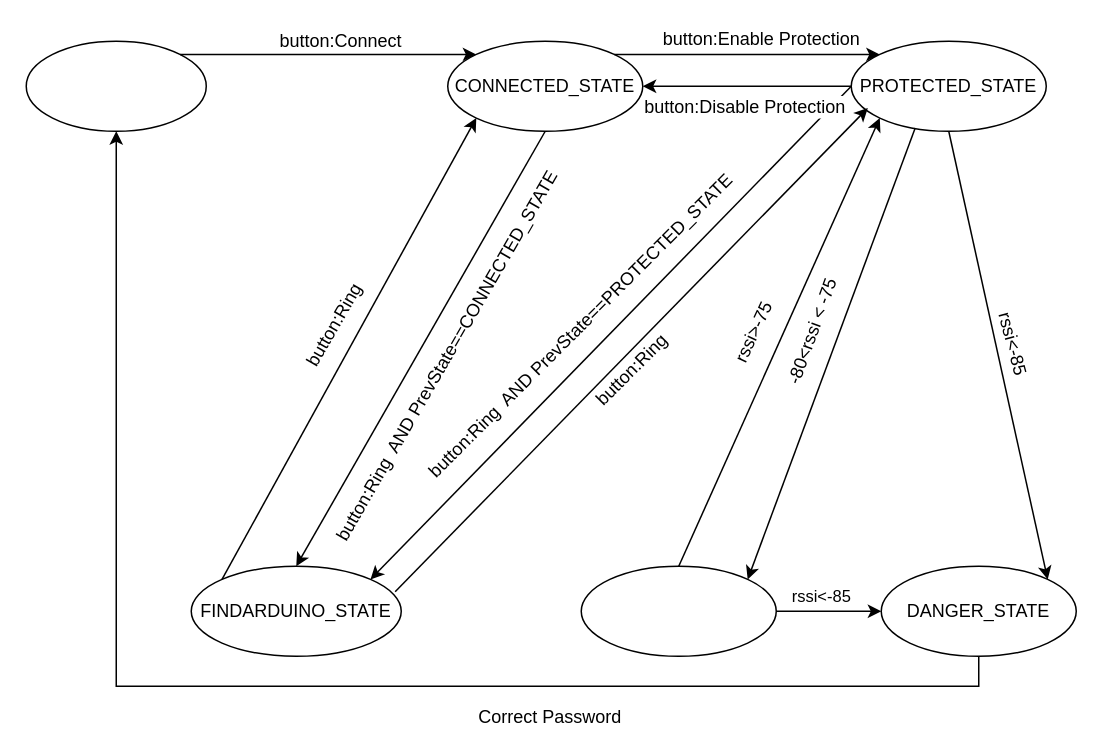
Image size: 1103x753. Some labels were removed from this diagram. The box of each missing label's shape, as (x1, y1, x2, y2) in pixels:
INIT_STATE: (25, 40, 206, 131)
WARNING_STATE: (580, 565, 776, 656)
